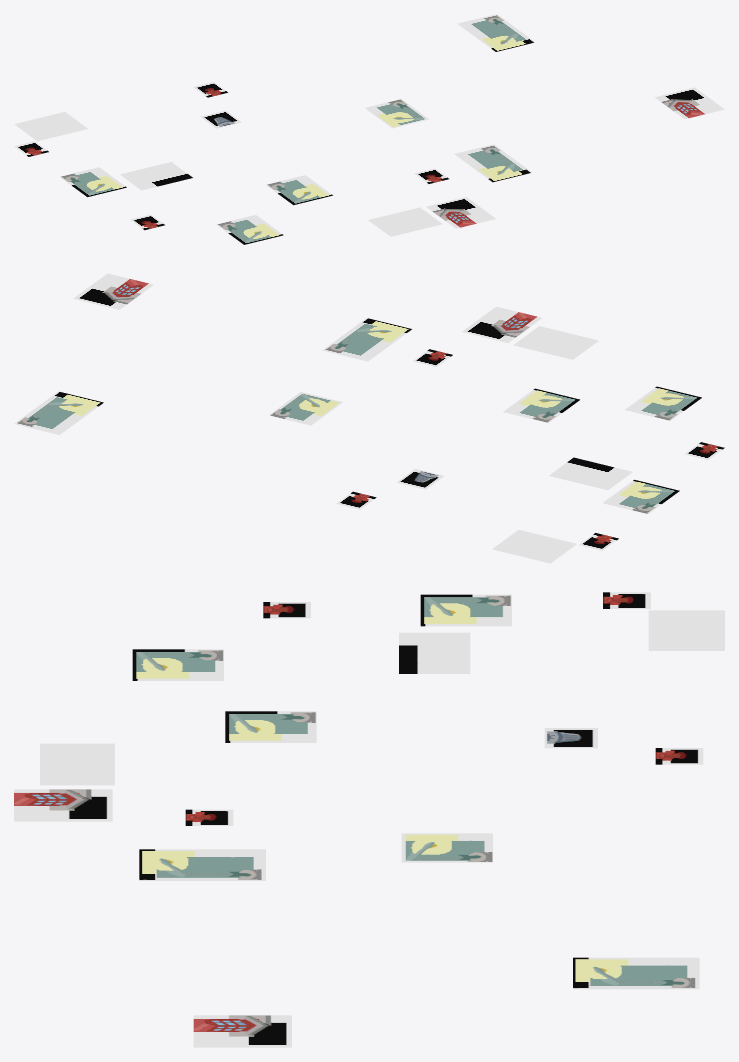
File: world02_background_details.obj
3 views of the same model, one above another, from view 1: azimuth 30°, elevation 25°; view 2: azimuth 150°, elevation 25°; view 3: azimuth 270°, elevation 25° (orthographic). The views are drawn at different scales.
Visible parts, largest first — view 1: world02_background_details; view 2: world02_background_details; view 3: world02_background_details.
Part boxes in pixels (x1,y1,x2,y2): world02_background_details: (14,14,724,244); world02_background_details: (14,273,724,563); world02_background_details: (14,592,724,1047).
Bounding box in the file's own units: 341 × 0 × 225.
